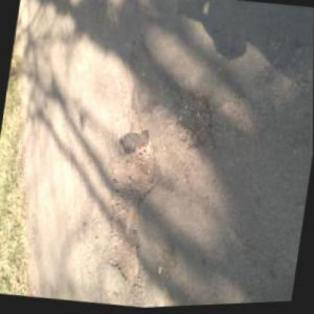Hueco: (94, 134, 166, 292), (167, 87, 216, 155)
